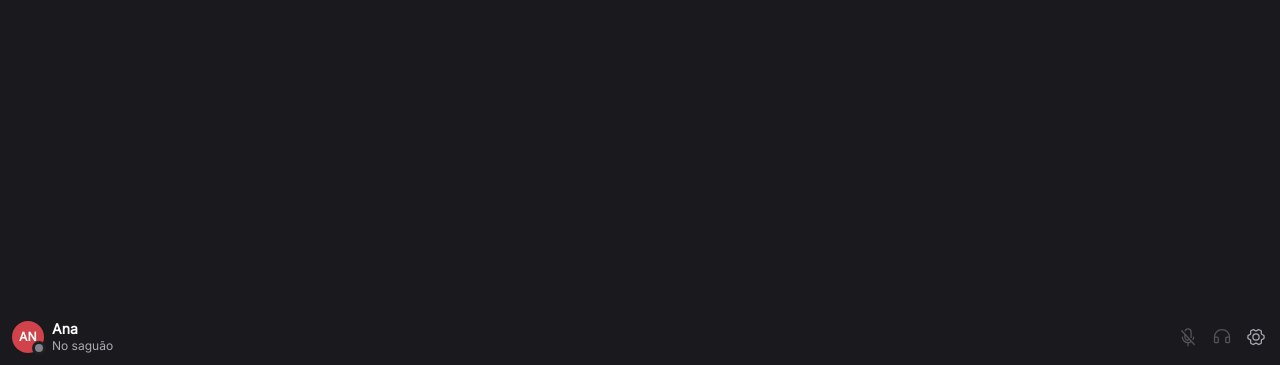
Test case: as preferências do painel da pessoa › sem como escolher a saída (Safari), só o microfone aparece
The image size is (1280, 365).
(page scrolled)
Click the button named "Preferências": [1256, 337] box [1240,321,1272,353]
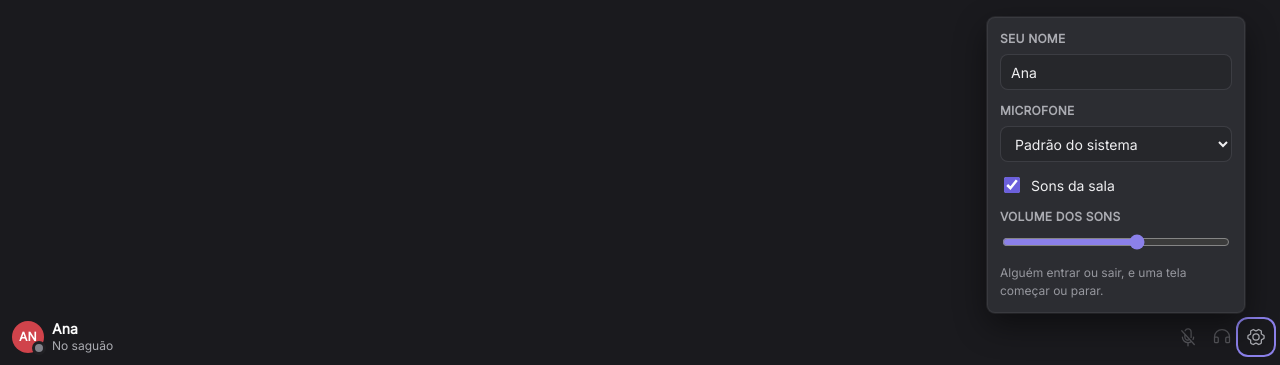
Check: the dropdown labelled "Microfone" is shown, box [1000,126,1232,162]
